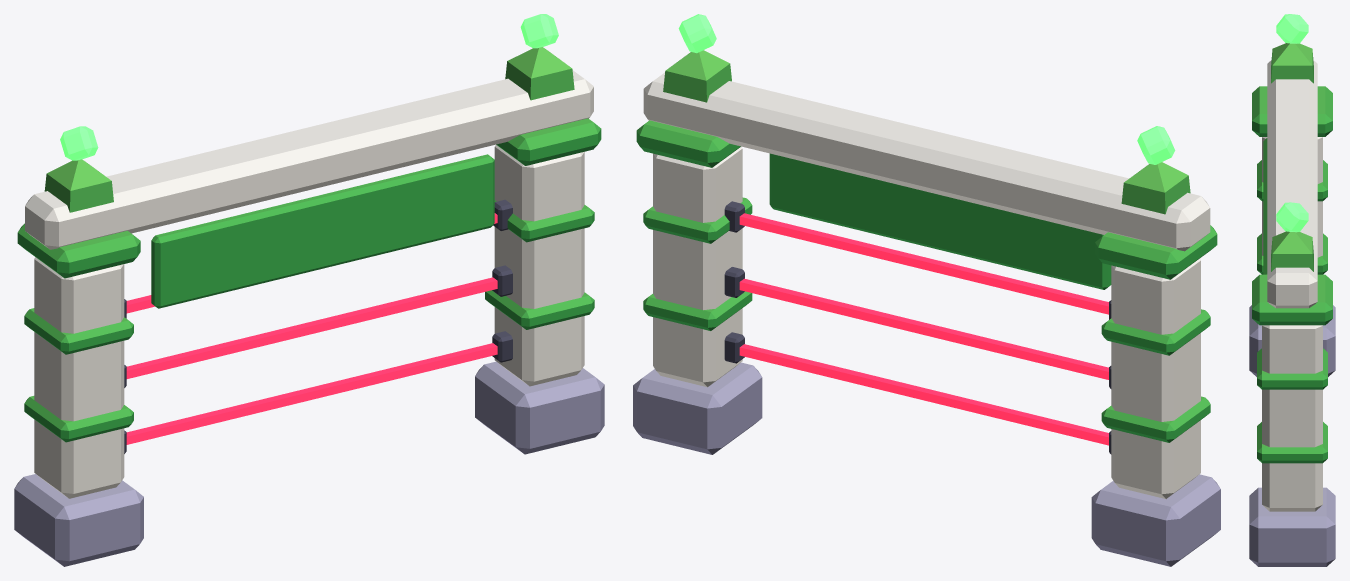
Rendered from Gate_3.glb.
The picture shows the model from 3 angles, left to right: view 1: azimuth 30°, elevation 25°; view 2: azimuth 150°, elevation 25°; view 3: azimuth 270°, elevation 25°; orthographic projection. The views are drawn at different scales.
Visible parts, largest first — view 1: Gate_3, Gate_3_Glow_laser, Gate_3_Glow_acc3; view 2: Gate_3, Gate_3_Glow_laser, Gate_3_Glow_acc3; view 3: Gate_3, Gate_3_Glow_acc3.
Boxes of the visible parts, bbox=[...] form: Gate_3: bbox=[14, 47, 604, 566]; Gate_3_Glow_laser: bbox=[126, 213, 497, 444]; Gate_3_Glow_acc3: bbox=[60, 14, 558, 160]; Gate_3: bbox=[633, 50, 1220, 566]; Gate_3_Glow_laser: bbox=[739, 213, 1108, 445]; Gate_3_Glow_acc3: bbox=[678, 14, 1175, 164]; Gate_3: bbox=[1249, 43, 1335, 566]; Gate_3_Glow_acc3: bbox=[1276, 14, 1308, 232].
Bounding box in the file's own units: 21 × 15.25 × 3.4.
3 materials, 1 textured.
